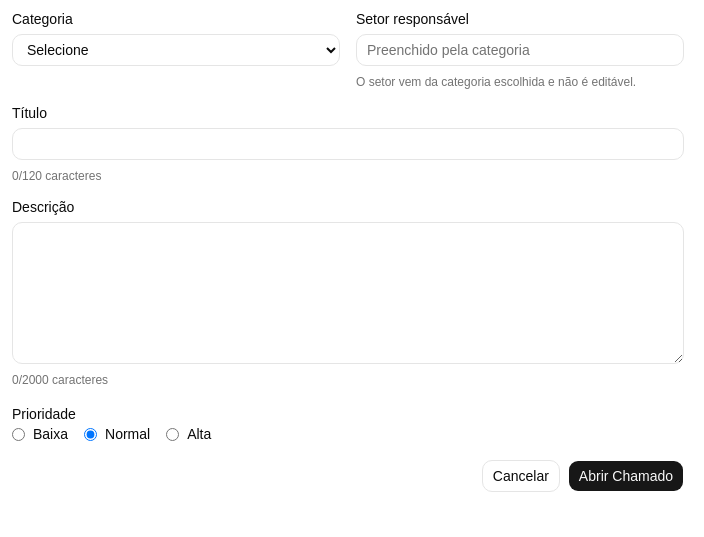
Test: NewTicketForm (Tela 4, US1.2, BR9.3) › counts the characters and refuses a short title when leaving the field (AC1.2.4, CT8)
Type "Nota" into the field labelled "Título" at (348, 144), box [12,128,684,160]
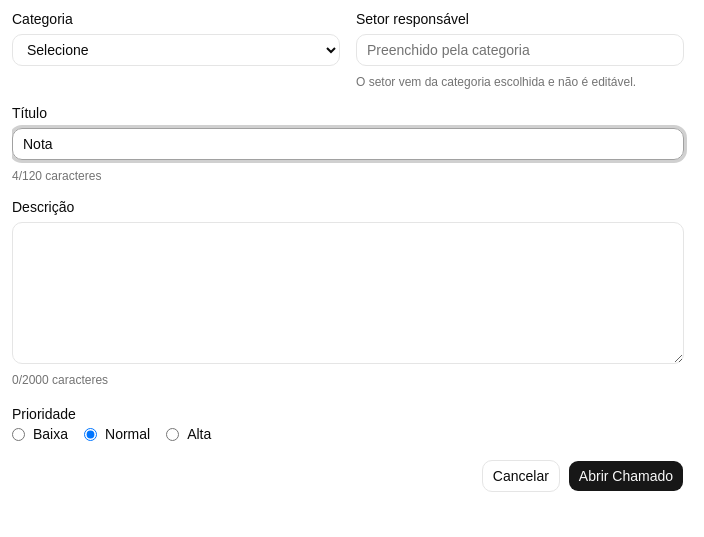
Press Tab
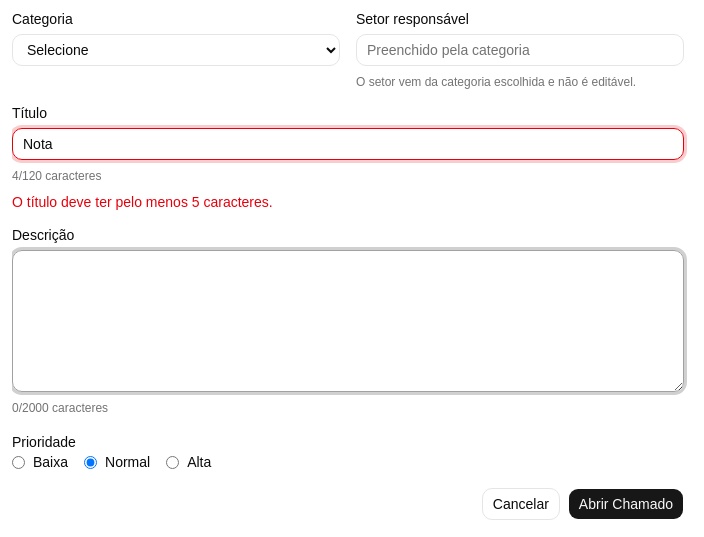
Now the text "O título deve ter pelo menos 5 caracteres." is shown, box [12,194,273,210]
